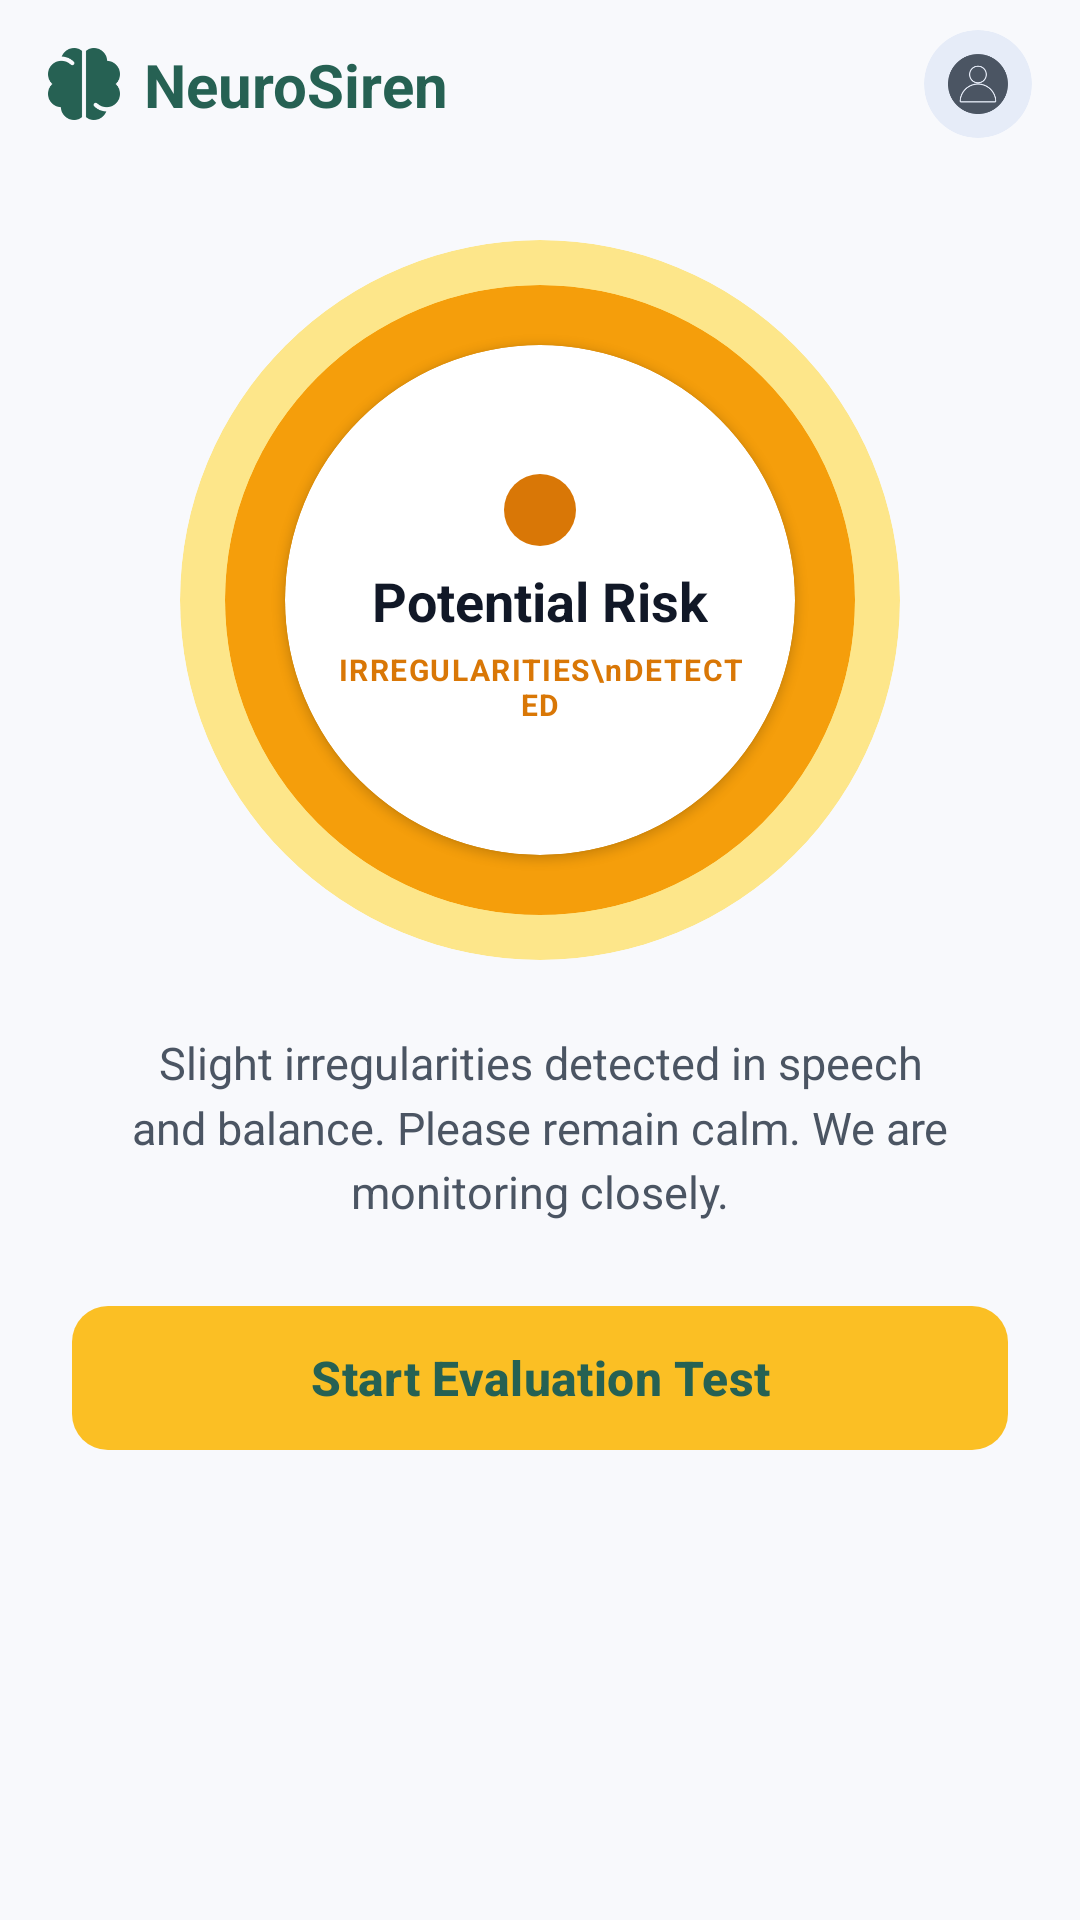

Screen size 1080 x 1920. Icon name, then its center in pixels as (x,y):
profile: (978,84)
